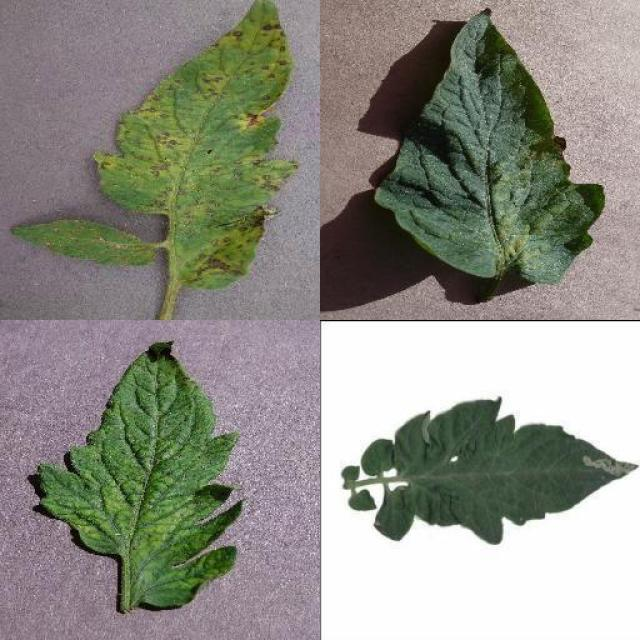Septoria: (94, 1, 298, 291)
